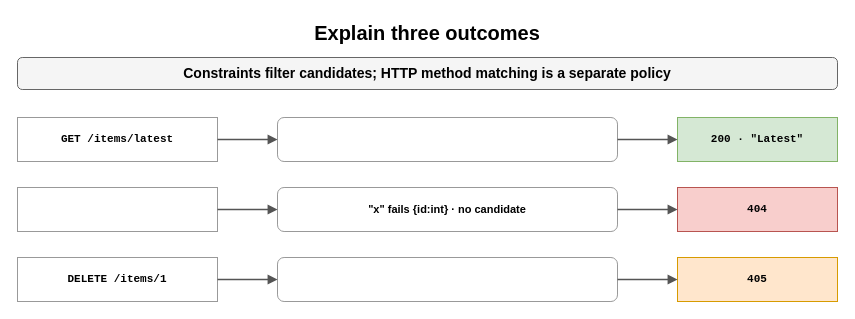
The diagram is 855 pixels wide and 319 high, and some of its shapes have lost their labels. Each missing label, with the centre of its shape:
GET /items/x: (117,209)
literal "/items/latest" matches: (447,139)
path fits {id:int} · endpoint only accepts GET: (447,279)
